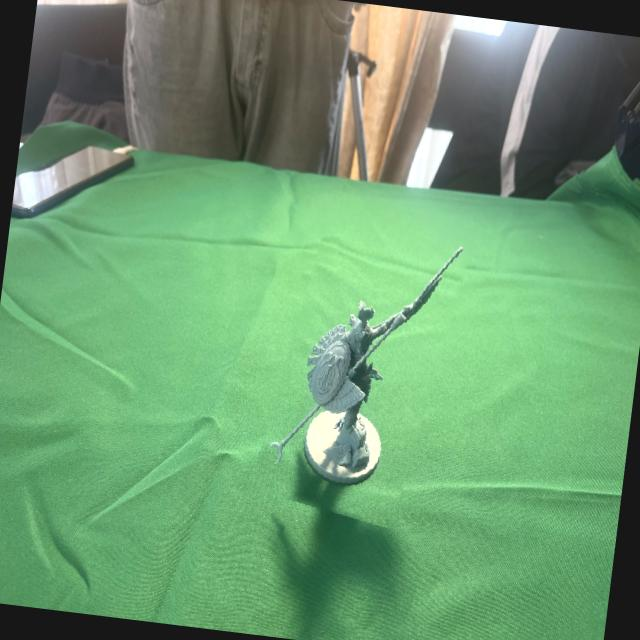isis: (258, 190, 467, 528)
